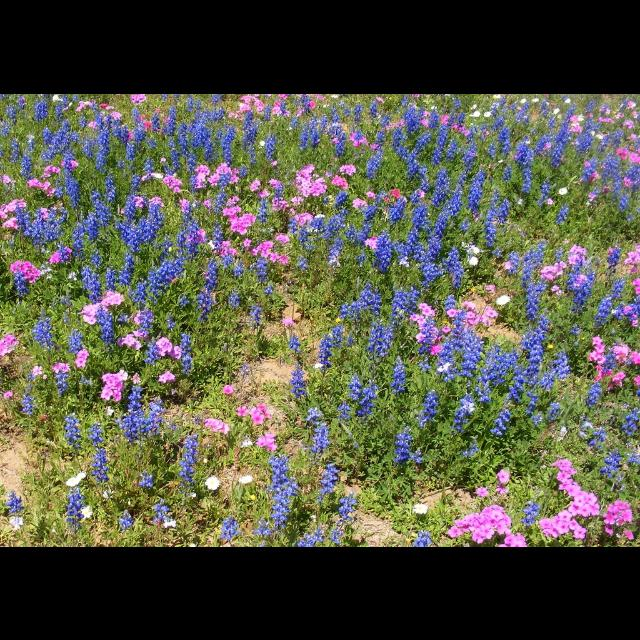Flower: (1, 93, 640, 545), (138, 326, 188, 380)
